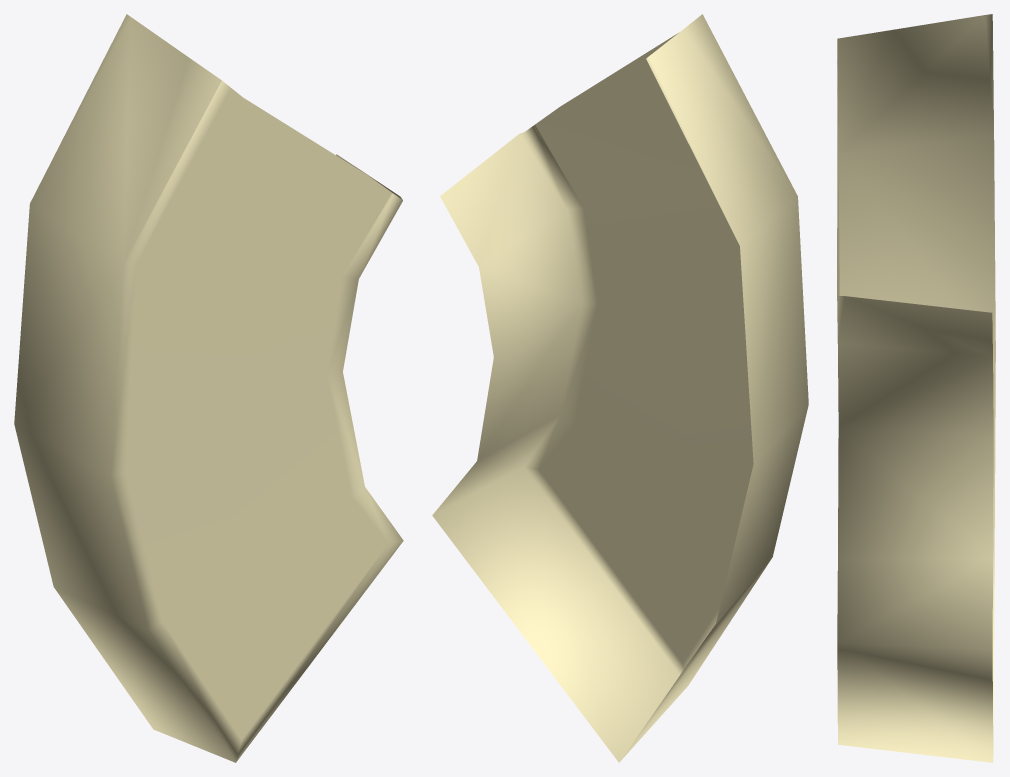
The model's file is ui_radialMenu_inner_4_left.glb.
The picture shows the model from 3 angles, left to right: view 1: azimuth 30°, elevation 25°; view 2: azimuth 150°, elevation 25°; view 3: azimuth 270°, elevation 25°; orthographic projection. The views are drawn at different scales.
Visible parts, largest first — view 1: centerLeft; view 2: centerLeft; view 3: centerLeft.
Part boxes in pixels (<box>): centerLeft: <box>14,14,403,762</box>; centerLeft: <box>432,14,808,762</box>; centerLeft: <box>837,14,995,762</box>.
Bounding box in the file's own units: 0.2989 × 0.6283 × 0.1229.
